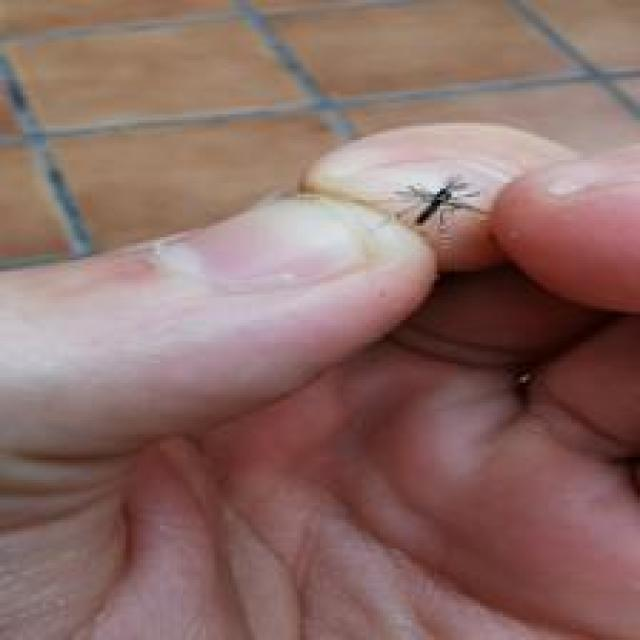Aedes albopictus: (394, 173, 489, 230)
